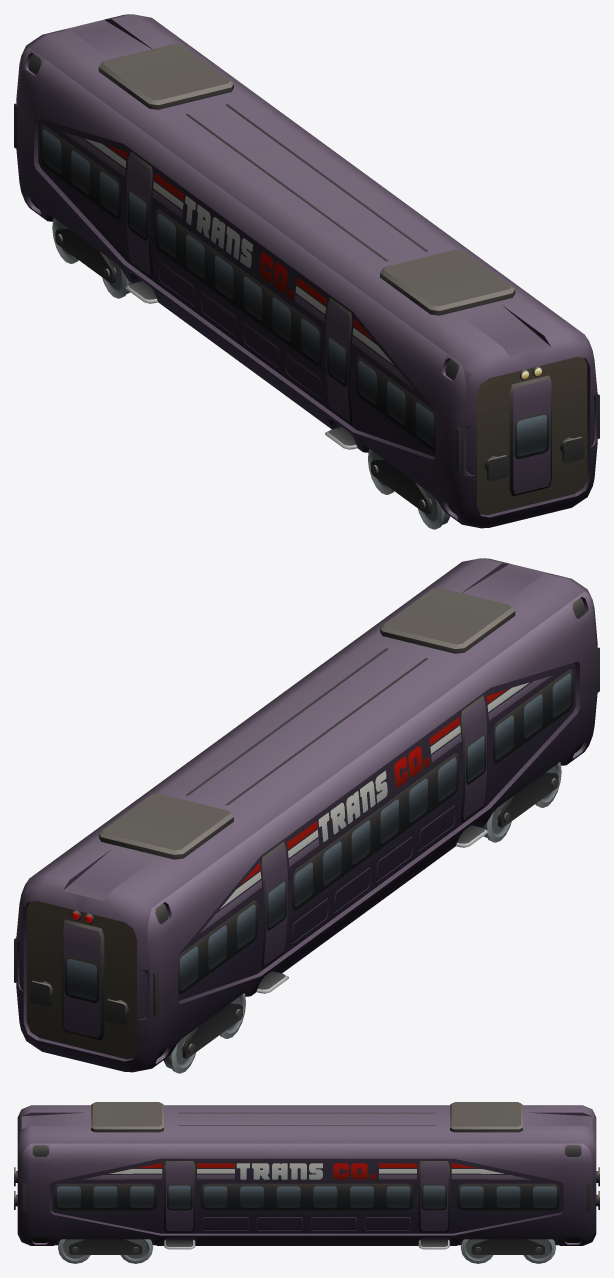
Rendered from Train_Cart_4A.fbx.
3 views of the same model, one above another, from view 1: azimuth 30°, elevation 25°; view 2: azimuth 150°, elevation 25°; view 3: azimuth 270°, elevation 25° (orthographic). The views are drawn at different scales.
Visible parts, largest first — view 1: Train_Cart_4A, Train_Cart_4A_Livery; view 2: Train_Cart_4A, Train_Cart_4A_Livery; view 3: Train_Cart_4A, Train_Cart_4A_Livery, Train_Cart_4A_Wheel_F.L, Train_Cart_4A_Wheel_M1.L, Train_Cart_4A_Wheel_R.L, Train_Cart_4A_Wheel_M2.L.
Boxes of the visible parts, x1,y1,x2,y2 form: Train_Cart_4A: [14, 14, 599, 528]; Train_Cart_4A_Livery: [62, 131, 414, 389]; Train_Cart_4A: [14, 558, 599, 1072]; Train_Cart_4A_Livery: [199, 675, 551, 933]; Train_Cart_4A: [14, 1102, 599, 1254]; Train_Cart_4A_Livery: [83, 1163, 530, 1179]; Train_Cart_4A_Wheel_F.L: [58, 1239, 90, 1263]; Train_Cart_4A_Wheel_M1.L: [120, 1239, 153, 1263]; Train_Cart_4A_Wheel_R.L: [523, 1239, 555, 1263]; Train_Cart_4A_Wheel_M2.L: [460, 1239, 493, 1263].
Size of the model in its own units: 2.92 by 3.95 by 16.
